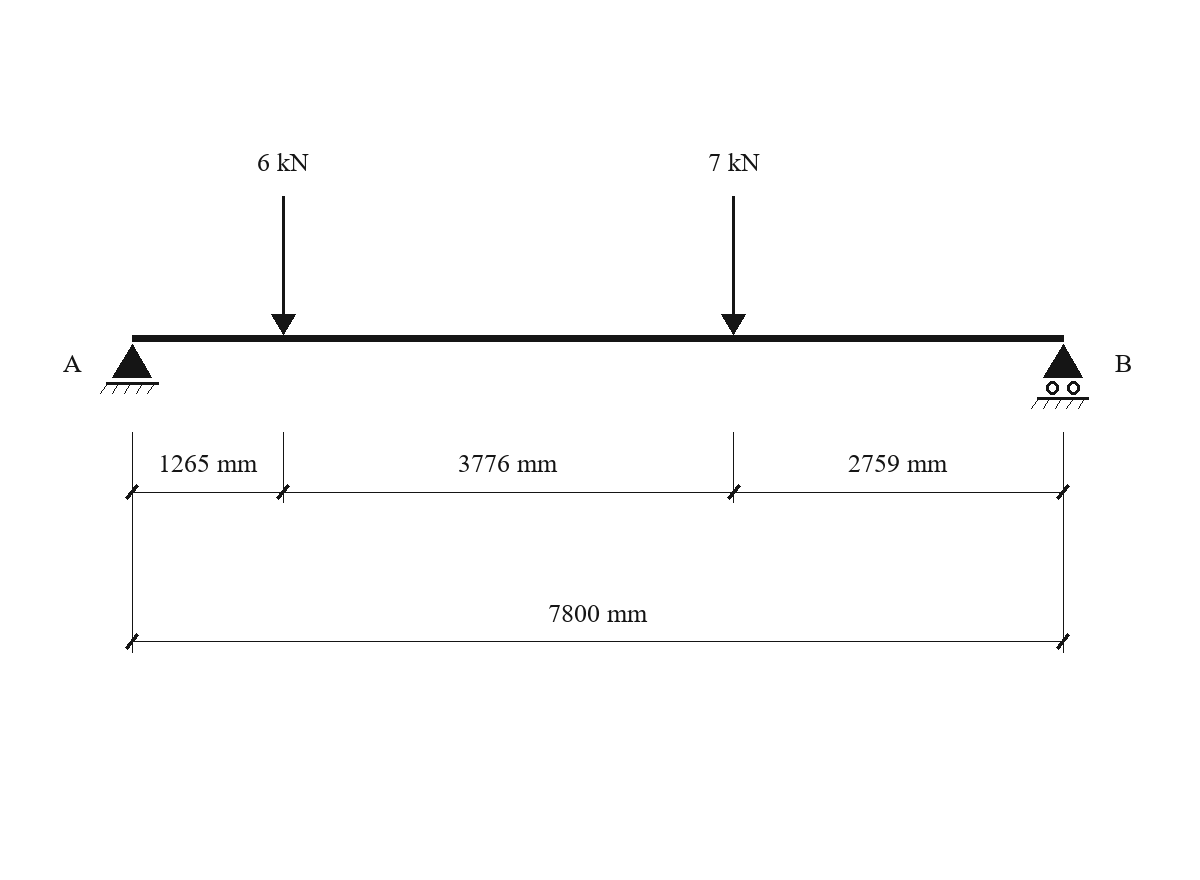pin_support: (100, 344, 159, 394)
point_load: (271, 196, 296, 335), (721, 196, 746, 335)
roller_support: (1031, 344, 1089, 409)
